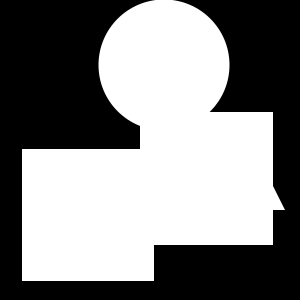circle: (140, 112, 273, 245), (22, 149, 154, 281), (151, 161, 216, 226)
rectangle: (98, 0, 229, 130)
triangle: (246, 171, 285, 210)
